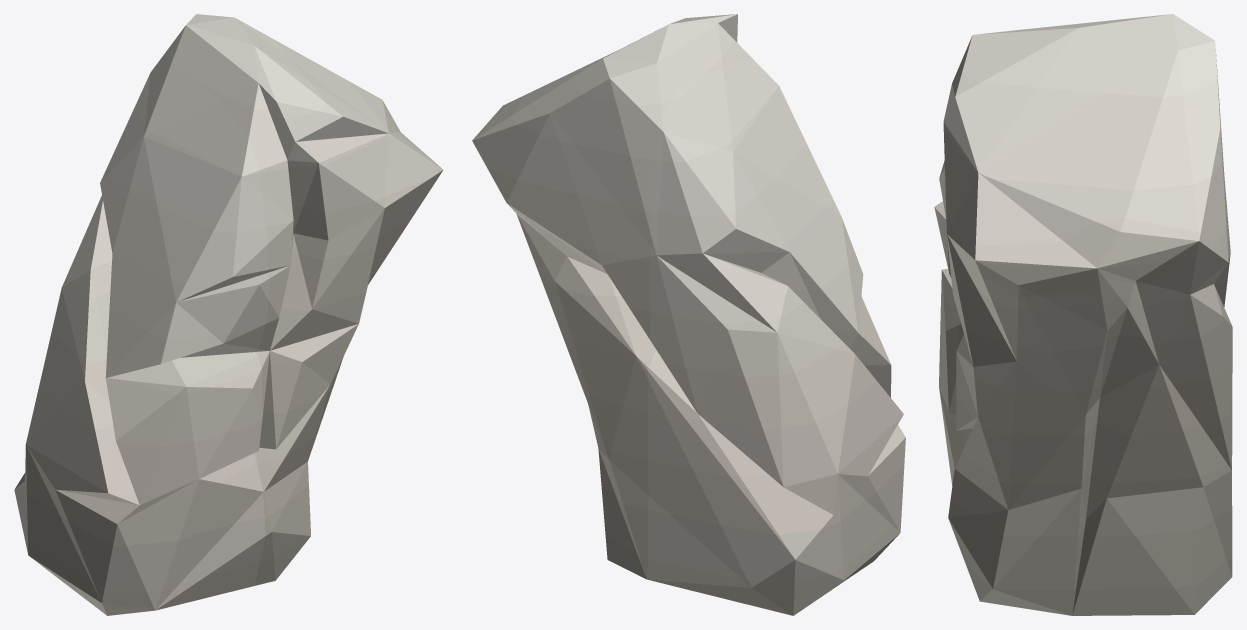
File: 3D_PortalRock3.fbx
The picture shows the model from 3 angles, left to right: view 1: azimuth 30°, elevation 25°; view 2: azimuth 150°, elevation 25°; view 3: azimuth 270°, elevation 25°; orthographic projection. The views are drawn at different scales.
Visible parts, largest first — view 1: PortalRock3; view 2: PortalRock3; view 3: PortalRock3.
Part boxes in pixels (box(x1,y1,x2,y2)): PortalRock3: box(14, 14, 443, 615); PortalRock3: box(472, 14, 905, 615); PortalRock3: box(934, 14, 1232, 615).
Bounding box in the file's own units: 33.2 × 45.52 × 20.67.
